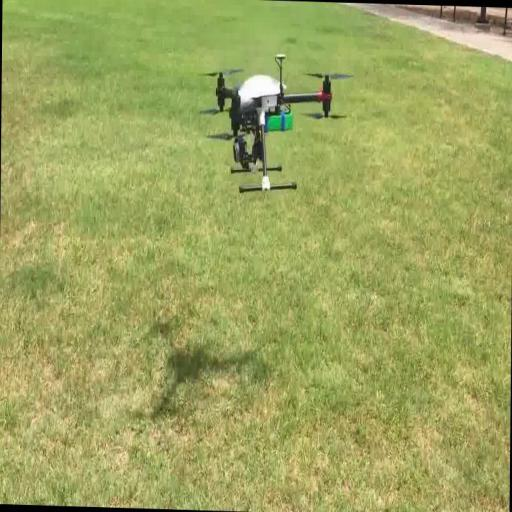drone: (203, 47, 341, 197)
